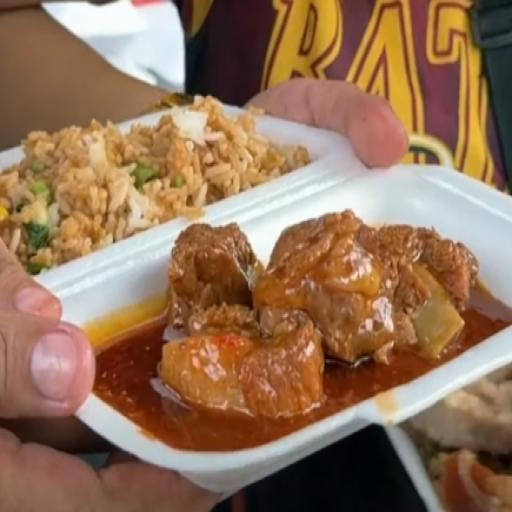pork caldereta: (120, 207, 492, 429)
